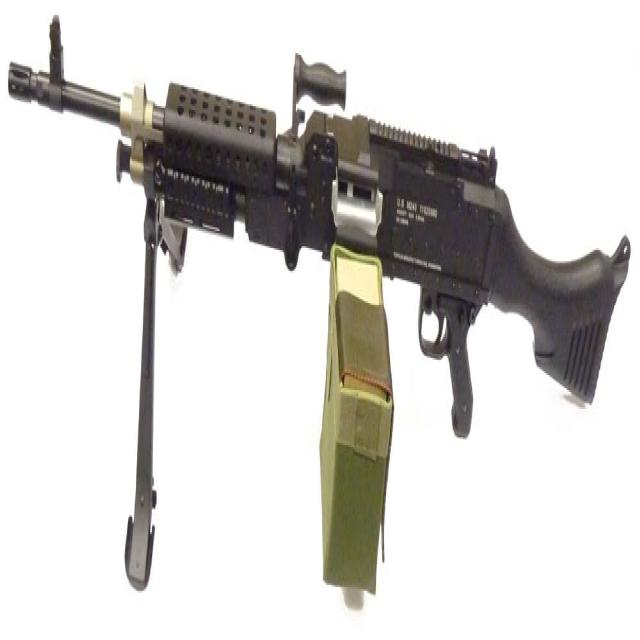Gun: (0, 0, 634, 622)
